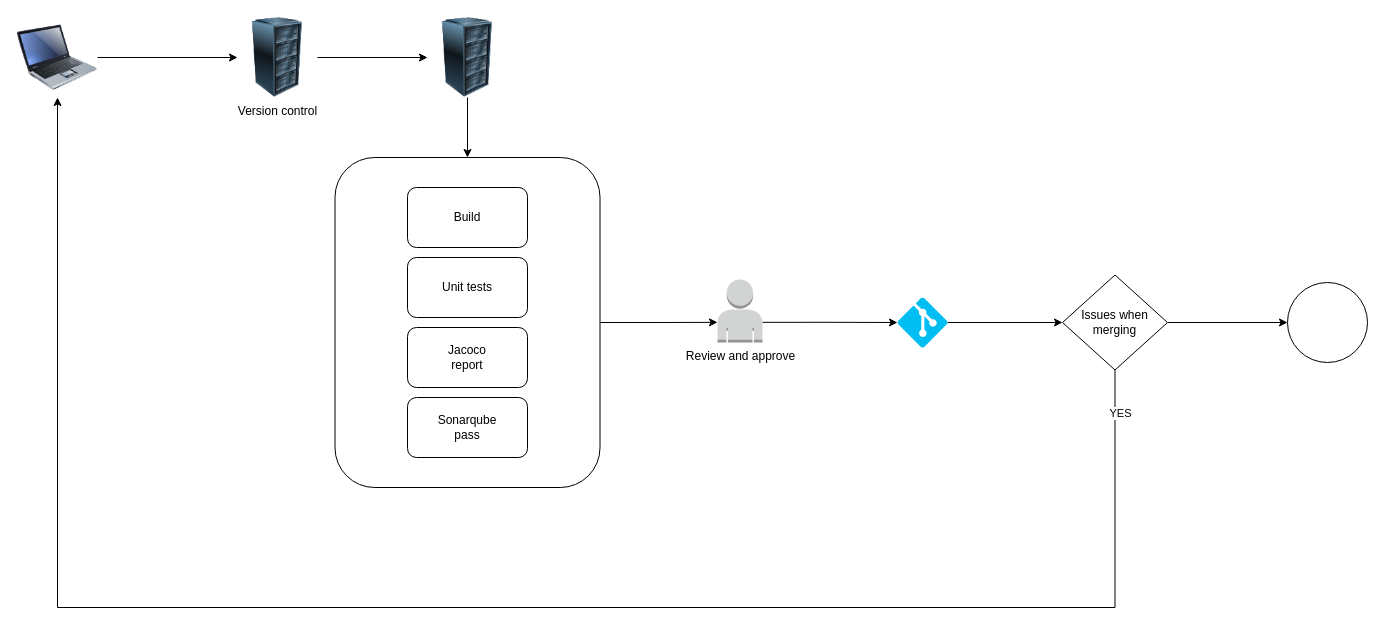
The diagram is 1385 pixels wide and 633 high, and some of its shapes have lost their labels. Here are the shapes that lost their labels. From the top down, the centre of each, then its label:
At [57,57]: "User".
At [467,57]: "Runner".
At [922,322]: "Merge".
At [1327,322]: "Push".
